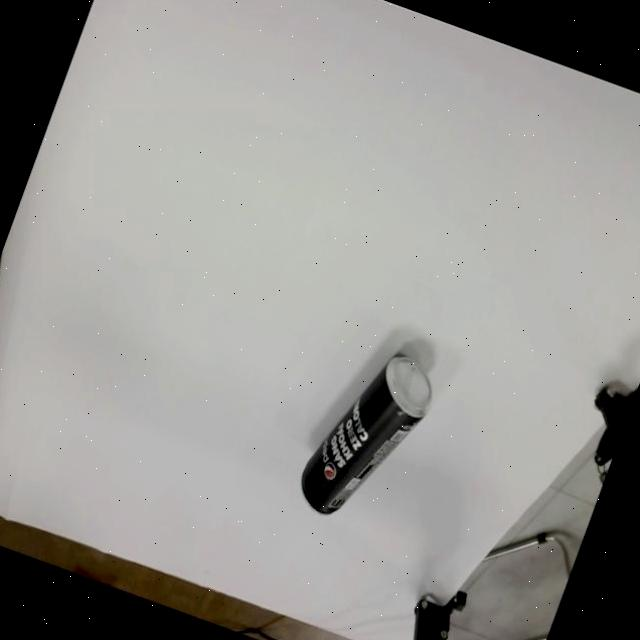debris: (291, 324, 448, 538)
